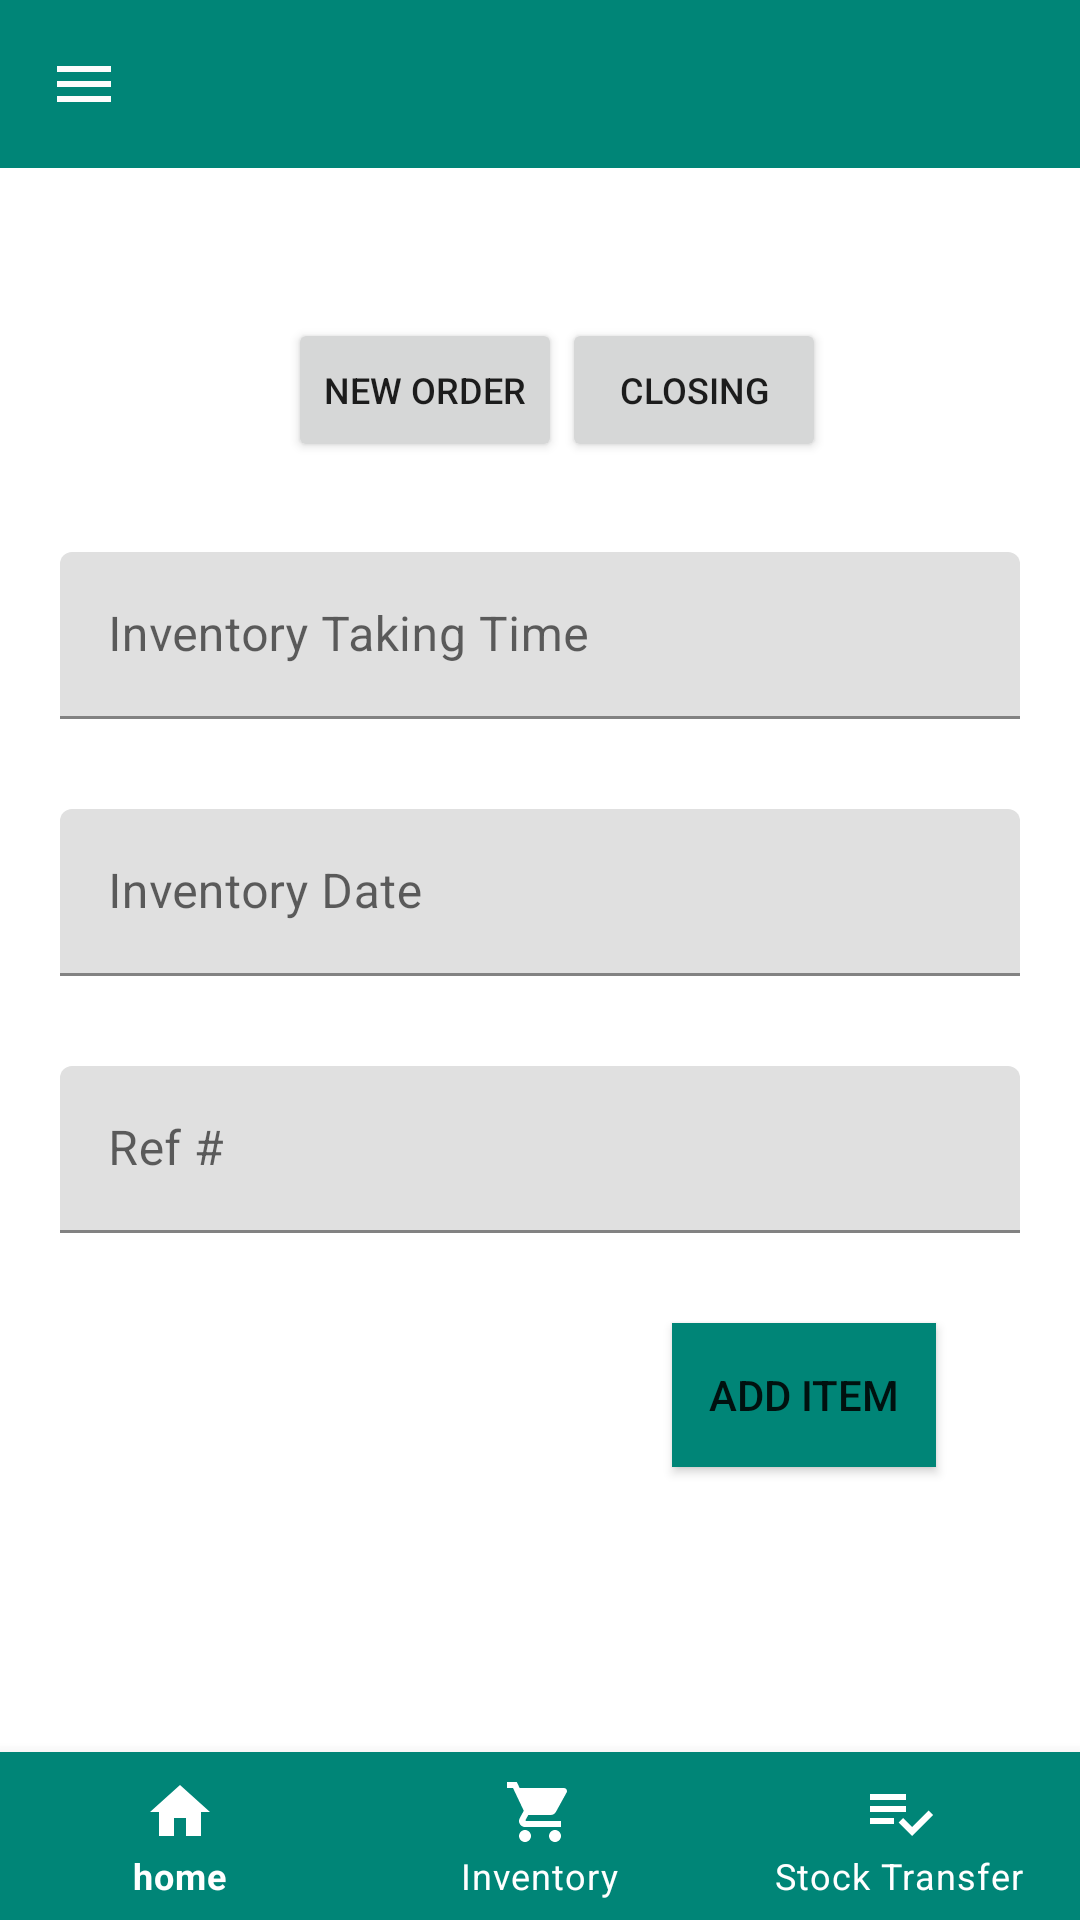

Point at icon controls on the screen. Image size 1080 x 1920, points as (x,y).
menu: (84,84)
